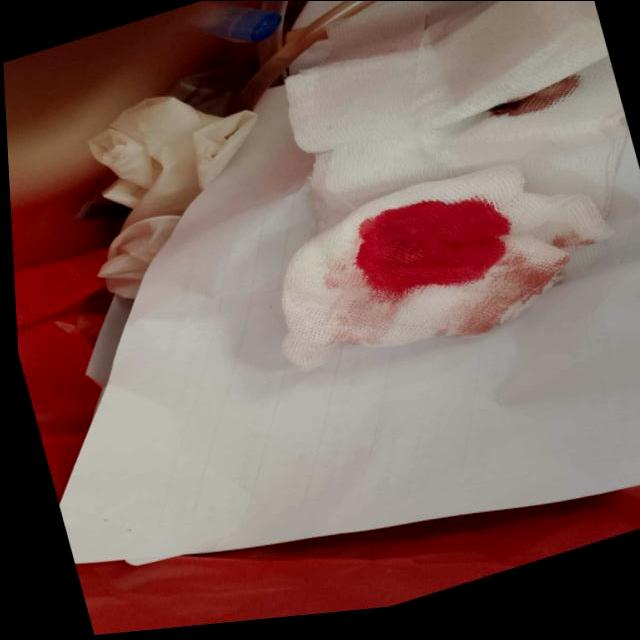General: (9, 1, 637, 634)
Infectious: (278, 162, 615, 370)
Sharps: (187, 0, 282, 44)
